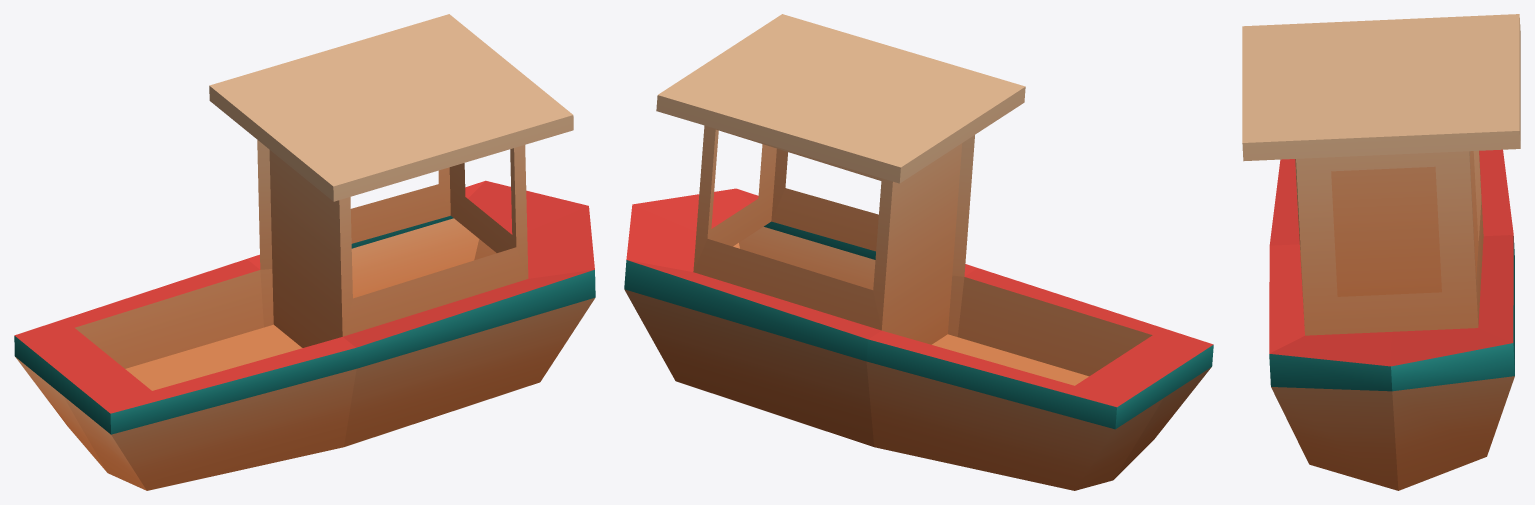
The model's file is Ship.fbx.
The picture shows the model from 3 angles, left to right: view 1: azimuth 30°, elevation 25°; view 2: azimuth 150°, elevation 25°; view 3: azimuth 270°, elevation 25°; orthographic projection. The views are drawn at different scales.
Visible parts, largest first — view 1: Ship; view 2: Ship; view 3: Ship.
Part boxes in pixels (x1,y1,x2,y2): Ship: [14, 14, 595, 490]; Ship: [624, 14, 1213, 490]; Ship: [1242, 14, 1520, 490].
Bounding box in the file's own units: 4.29 × 2.55 × 1.75.
